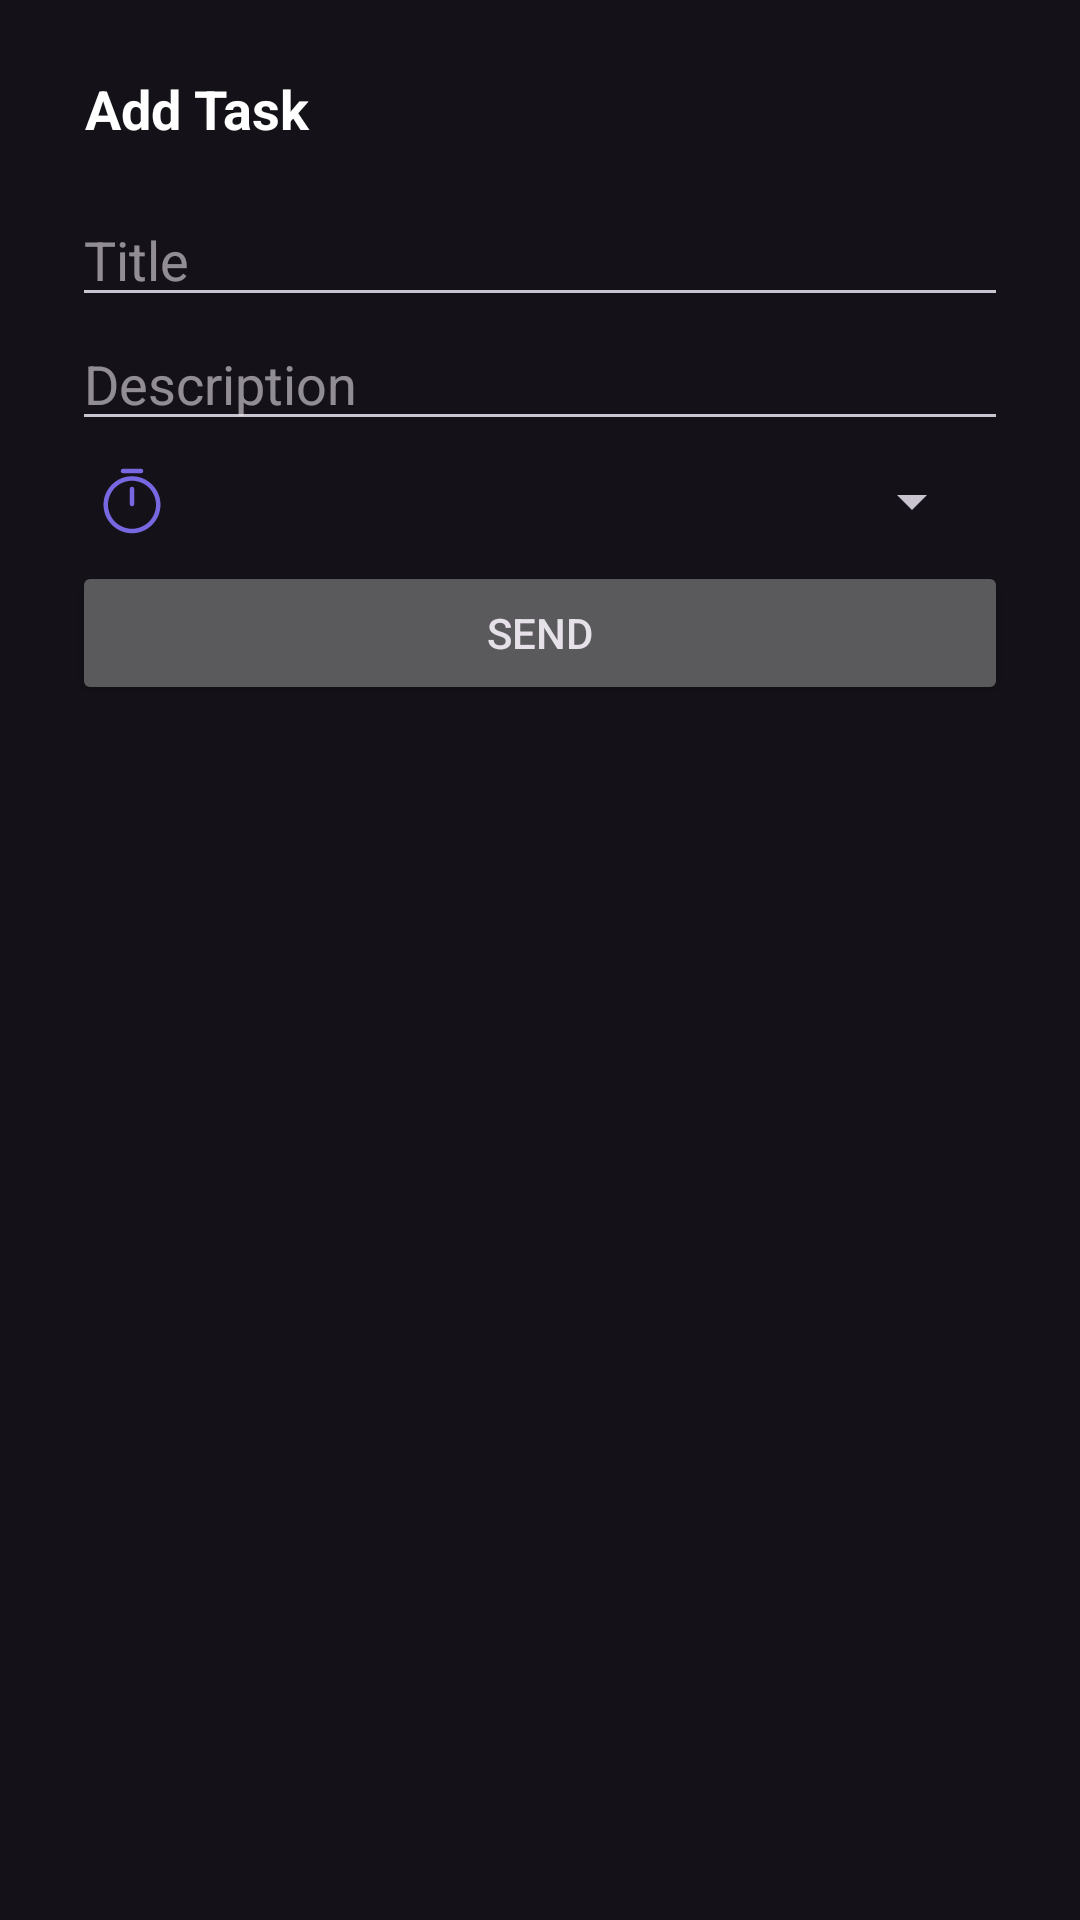

Locate icon controls on the screen. Image size 1080×1920, boxes as [x1, y1, x2, y2].
timer: [103, 468, 161, 534]
